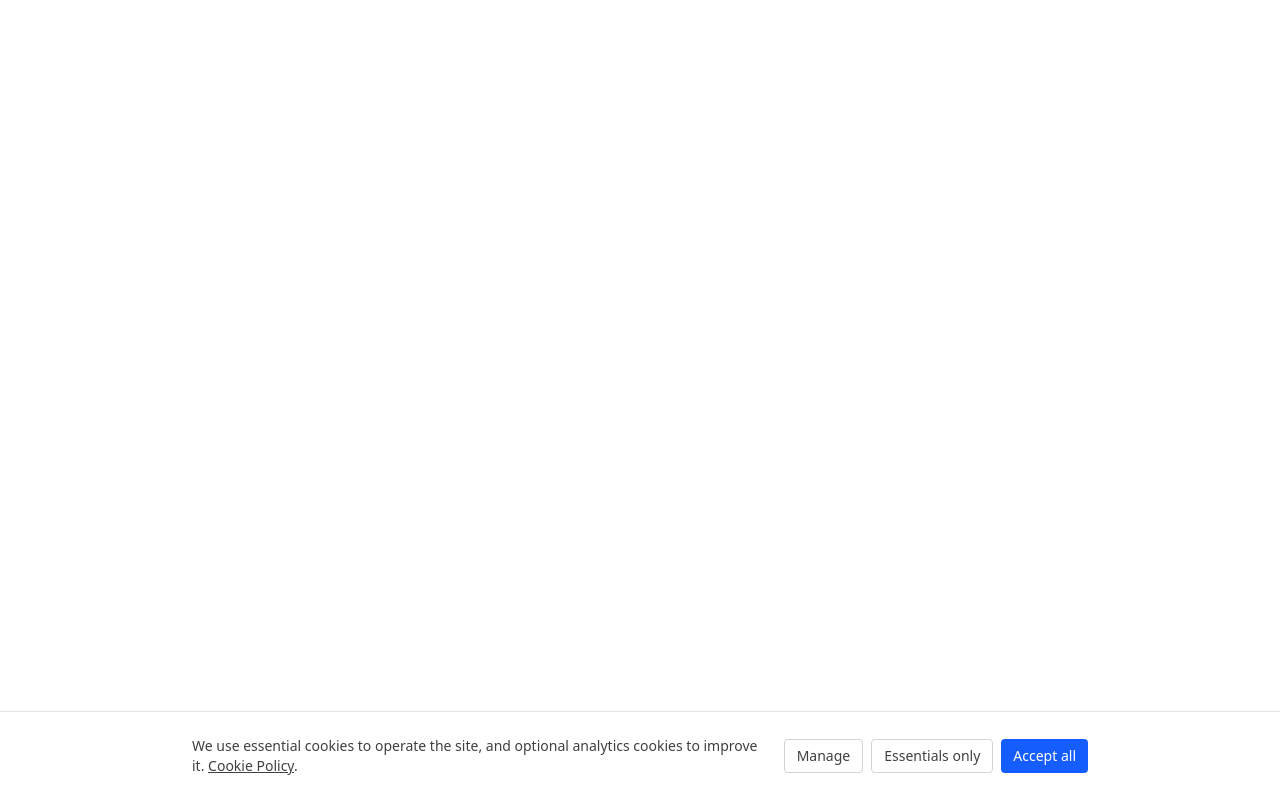
Test: CookieBanner › opens preferences dialog when Manage is clicked
Click the button "Manage".
click(823, 756)  # box [784,739,863,773]
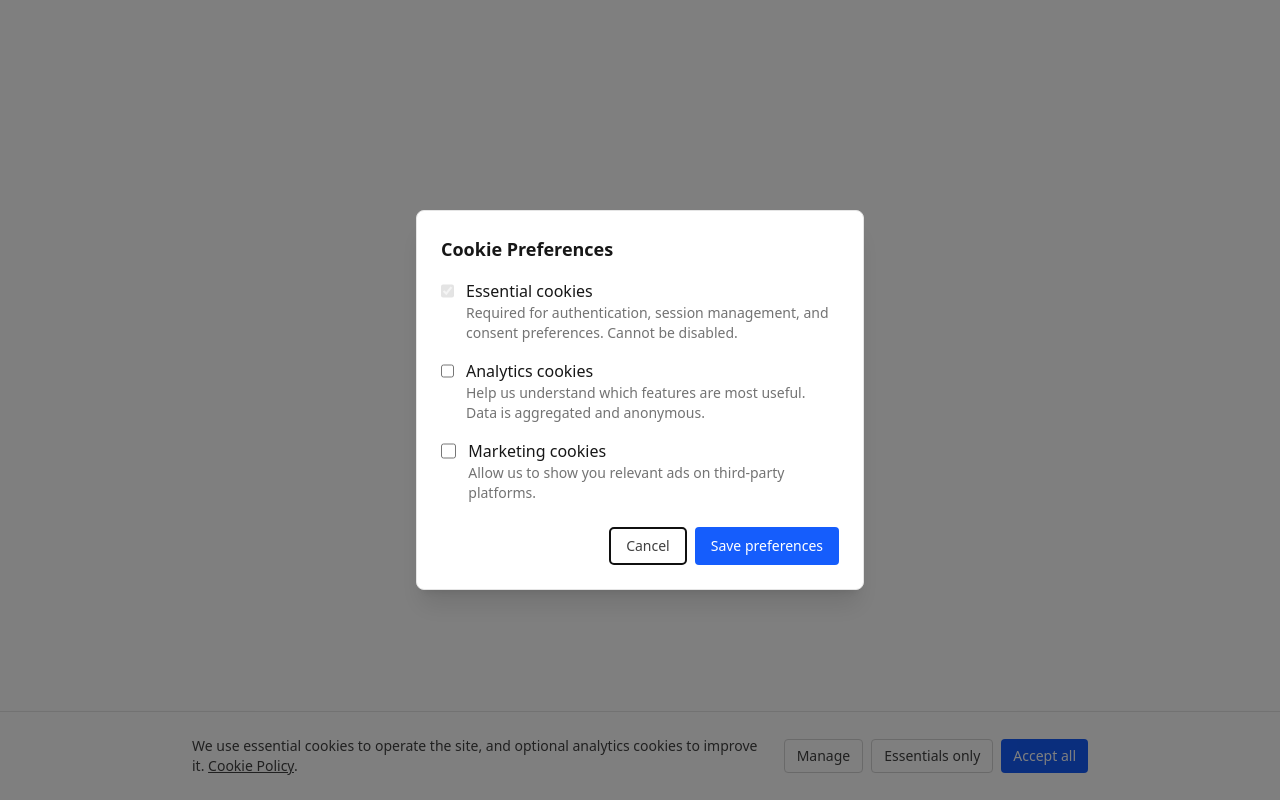
Check: the dialog "Cookie Preferences" is shown
